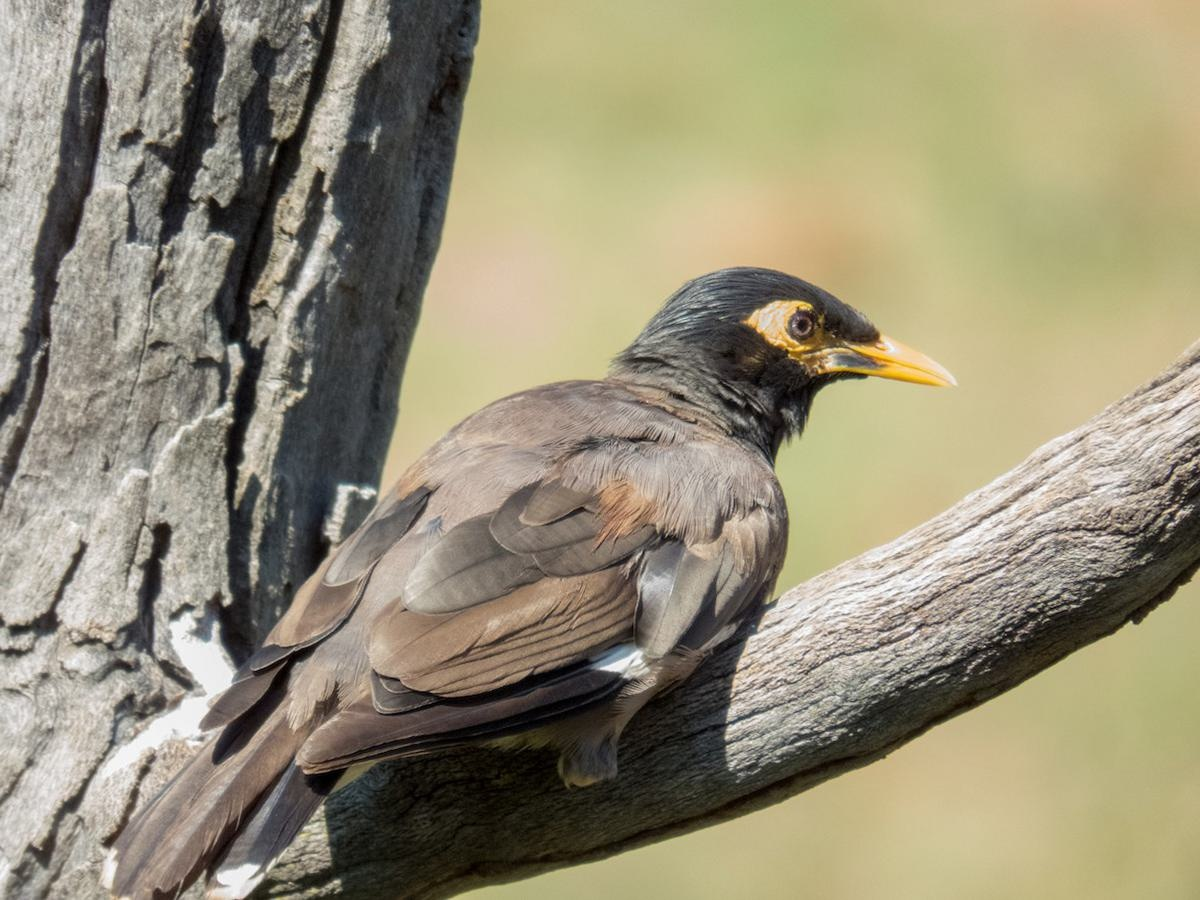myna: (264, 264, 981, 782)
